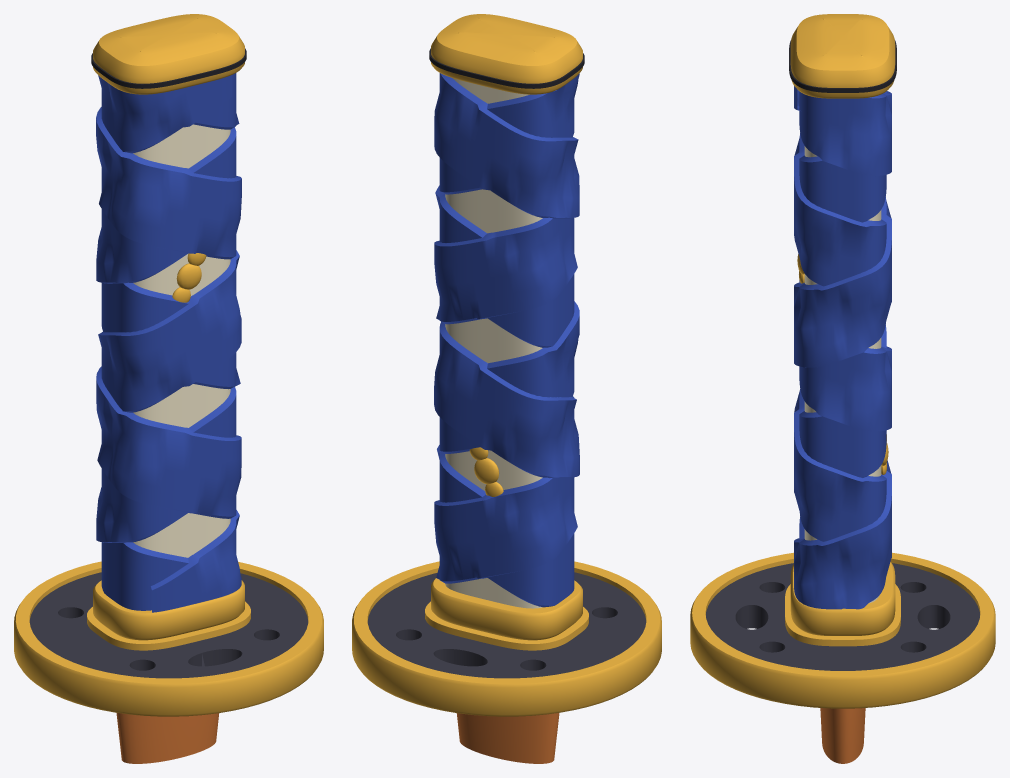
File: KatanaHiltGame.fbx
3 views of the same model, side by side, from view 1: azimuth 30°, elevation 25°; view 2: azimuth 150°, elevation 25°; view 3: azimuth 270°, elevation 25° (orthographic).
Visible parts, largest first — view 1: Ito, Rim, Tsuba.001, Same, Kashira.001, Fittings, Habaki.001, Band; view 2: Ito, Rim, Tsuba.001, Kashira.001, Same, Fittings, Habaki.001, Band; view 3: Ito, Rim, Tsuba.001, Kashira.001, Fittings, Habaki.001, Band, Same.
Part boxes in pixels (bbox=[...]): Ito: bbox=[96, 73, 241, 612]; Rim: bbox=[14, 561, 323, 716]; Tsuba.001: bbox=[29, 572, 308, 678]; Same: bbox=[133, 124, 230, 557]; Kashira.001: bbox=[93, 14, 244, 94]; Fittings: bbox=[87, 253, 250, 650]; Habaki.001: bbox=[116, 712, 219, 763]; Band: bbox=[91, 48, 246, 88]; Ito: bbox=[434, 73, 579, 607]; Rim: bbox=[352, 561, 661, 716]; Tsuba.001: bbox=[367, 572, 646, 678]; Kashira.001: bbox=[431, 14, 582, 94]; Same: bbox=[445, 78, 542, 608]; Fittings: bbox=[425, 447, 588, 650]; Habaki.001: bbox=[456, 712, 559, 763]; Band: bbox=[429, 48, 584, 88]; Ito: bbox=[794, 86, 891, 609]; Rim: bbox=[690, 552, 995, 708]; Tsuba.001: bbox=[706, 563, 979, 670]; Kashira.001: bbox=[790, 14, 895, 98]; Fittings: bbox=[785, 254, 900, 646]; Habaki.001: bbox=[820, 708, 865, 763]; Band: bbox=[789, 40, 896, 92]; Same: bbox=[804, 146, 881, 603].
Size of the model in its own units: 0.52 by 1.32 by 0.52.
